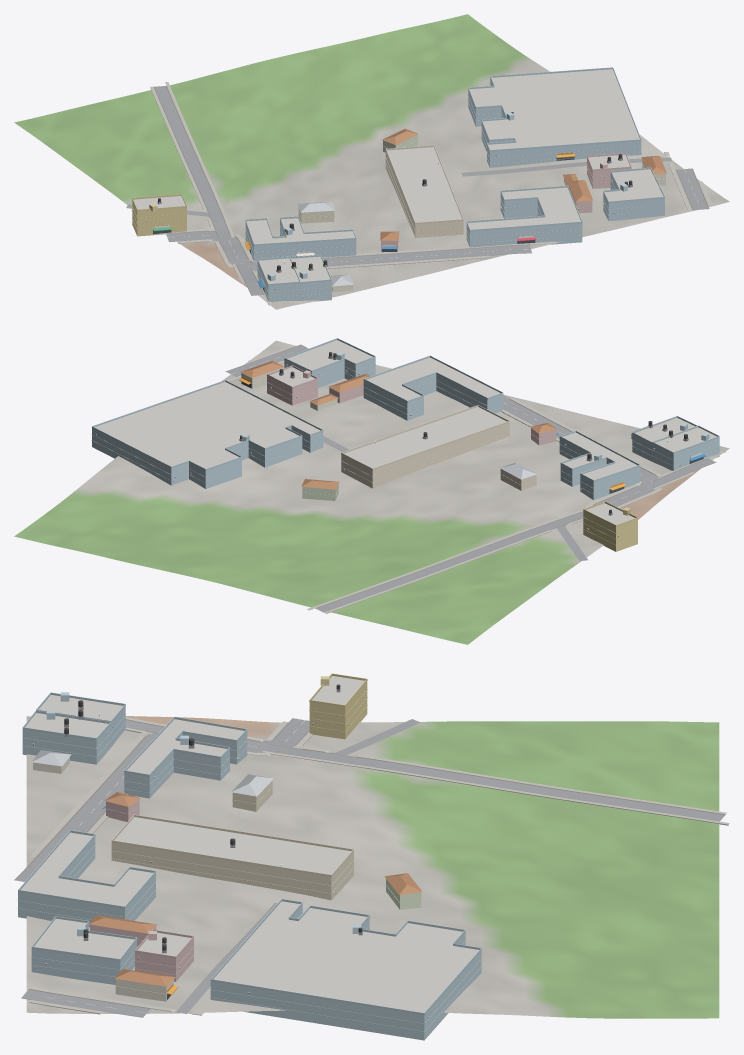
3 renders of one model, top to bottom at view 1: azimuth 30°, elevation 25°; view 2: azimuth 150°, elevation 25°; view 3: azimuth 270°, elevation 25°, orthographic. The views are drawn at different scales.
Parts seen in each view (by area): view 1: Terrain-col, Buildings-col, Details, Roads-col, Sidewalks-col; view 2: Terrain-col, Buildings-col, Details, Roads-col, Sidewalks-col; view 3: Terrain-col, Buildings-col, Details, Roads-col, Sidewalks-col.
Part boxes in pixels (<box>): Terrain-col: <box>14,14,729,309</box>; Buildings-col: <box>132,69,666,304</box>; Details: <box>131,67,666,298</box>; Roads-col: <box>126,86,709,295</box>; Sidewalks-col: <box>150,82,712,305</box>; Terrain-col: <box>14,340,729,644</box>; Buildings-col: <box>92,340,719,551</box>; Details: <box>91,338,719,545</box>; Roads-col: <box>225,344,716,612</box>; Sidewalks-col: <box>227,345,725,613</box>; Terrain-col: <box>26,716,719,1018</box>; Buildings-col: <box>18,676,481,1040</box>; Details: <box>17,673,481,1031</box>; Roads-col: <box>14,718,725,1017</box>; Sidewalks-col: <box>29,717,729,1015</box>.
Size of the model in its own units: 288 by 18.39 by 265.
